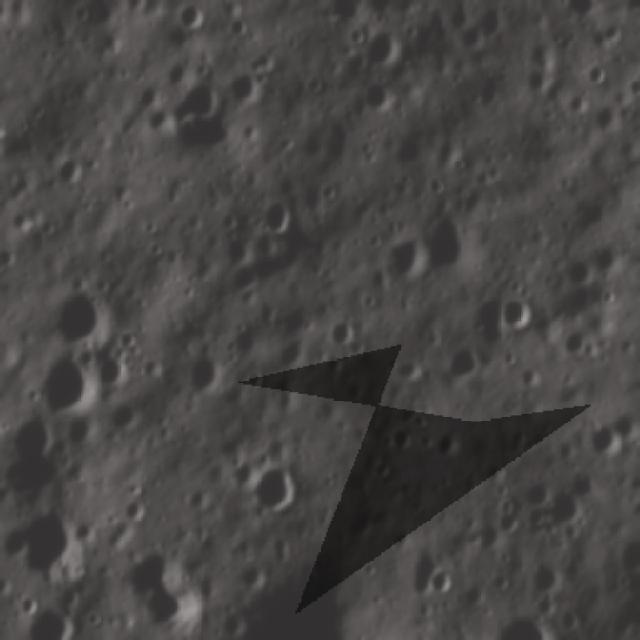crater: (122, 529, 216, 636), (13, 501, 93, 593), (17, 346, 100, 423), (31, 276, 114, 352), (154, 70, 232, 136), (420, 205, 480, 282), (246, 462, 309, 522), (181, 342, 239, 404), (3, 406, 59, 465), (350, 25, 408, 78), (382, 228, 430, 289), (571, 188, 629, 238), (576, 416, 624, 472), (542, 487, 592, 535), (440, 339, 486, 388), (484, 492, 528, 540), (354, 74, 395, 124), (254, 196, 294, 247), (500, 291, 546, 335), (224, 66, 267, 111), (226, 258, 272, 298), (92, 351, 131, 398), (523, 557, 565, 600), (46, 149, 89, 189), (63, 411, 103, 451), (104, 398, 144, 437), (560, 252, 598, 292), (426, 565, 463, 604), (110, 495, 153, 528), (588, 99, 626, 136), (322, 311, 360, 347), (432, 428, 468, 464), (174, 4, 208, 38), (590, 241, 621, 277), (559, 326, 590, 362), (382, 424, 416, 456), (388, 356, 423, 387), (224, 12, 256, 43), (516, 363, 547, 391), (580, 62, 609, 89)
